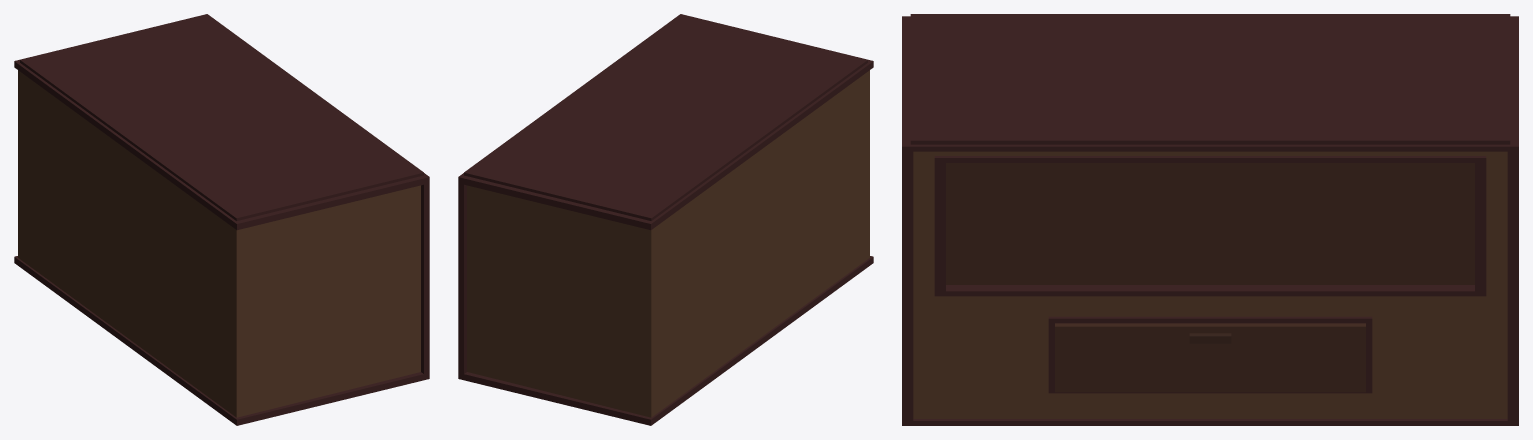
File: SM_Box_Locker.fbx
3 views of the same model, side by side, from view 1: azimuth 30°, elevation 25°; view 2: azimuth 150°, elevation 25°; view 3: azimuth 270°, elevation 25° (orthographic). The views are drawn at different scales.
Parts seen in each view (by area): view 1: SM_Box_Locker; view 2: SM_Box_Locker; view 3: SM_Box_Locker, SM_Box_Locker_Door.
Boxes of the visible parts, box(x1,y1,x2,y2) form: SM_Box_Locker: box(14, 14, 429, 425); SM_Box_Locker: box(458, 14, 873, 425); SM_Box_Locker: box(902, 14, 1518, 425); SM_Box_Locker_Door: box(1055, 323, 1365, 392).
Bounding box in the file's own units: 26.41 × 25.57 × 50.42.
